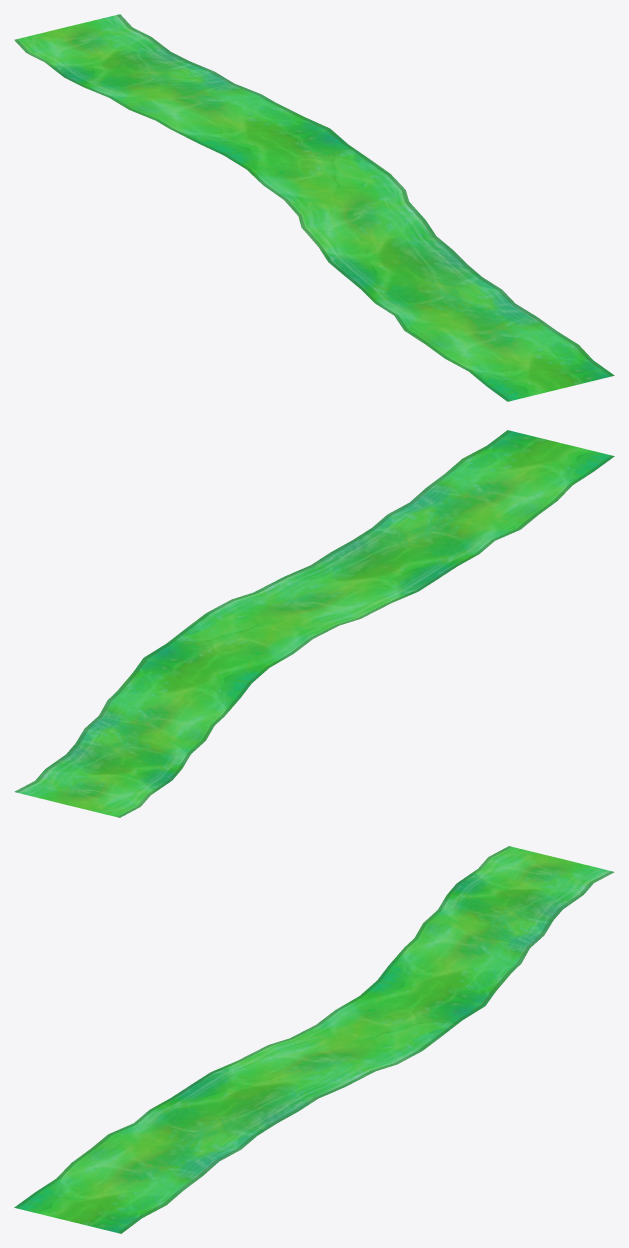
The model's file is Amazon02_Lu02.FBX.
The picture shows the model from 3 angles, top to bottom: view 1: azimuth 30°, elevation 25°; view 2: azimuth 150°, elevation 25°; view 3: azimuth 330°, elevation 25°; orthographic projection.
Visible parts, largest first — view 1: Amazon02_Lu02; view 2: Amazon02_Lu02; view 3: Amazon02_Lu02.
Part boxes in pixels (x1,y1,x2,y2): Amazon02_Lu02: (14, 14, 614, 401); Amazon02_Lu02: (14, 430, 614, 817); Amazon02_Lu02: (14, 846, 614, 1233).
Size of the model in its own units: 1384 by 0.000244 by 7814.
